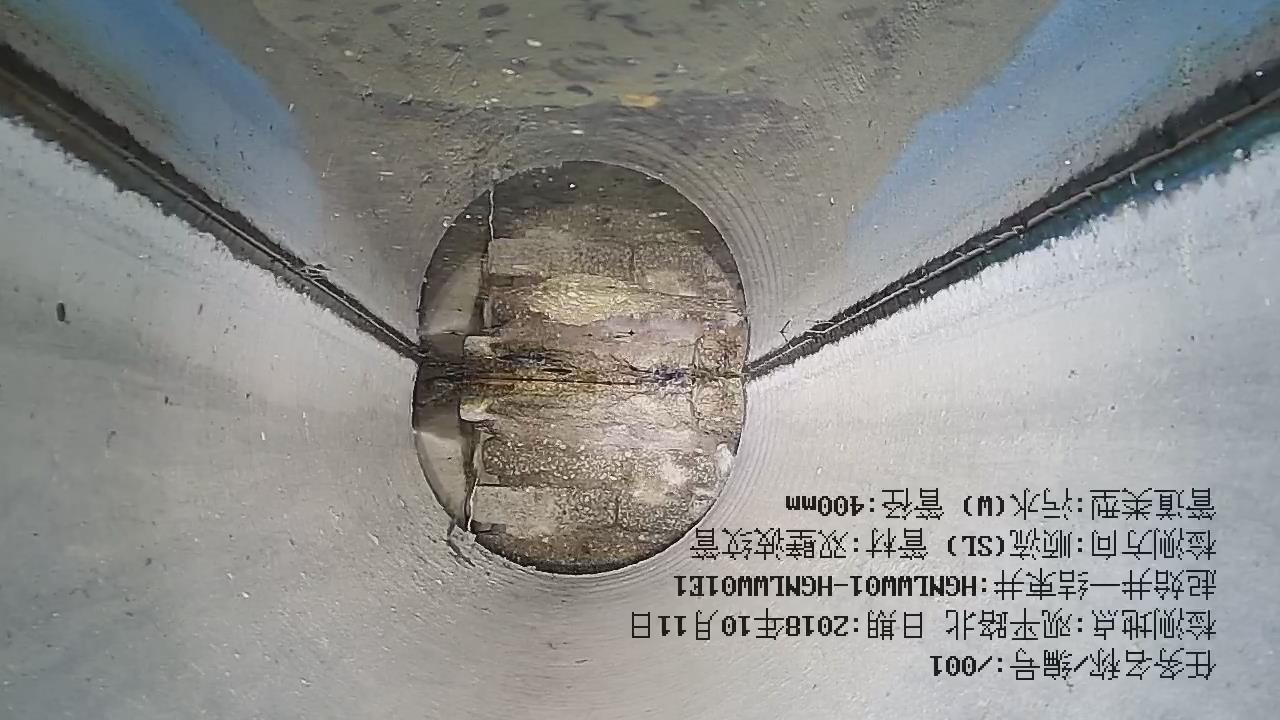CQBG: (413, 365, 745, 574)
